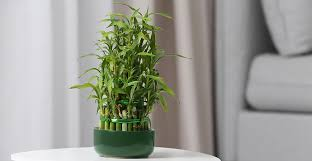bamboo: (74, 1, 186, 132)
